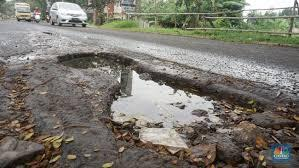Pothole: (37, 42, 258, 164)
